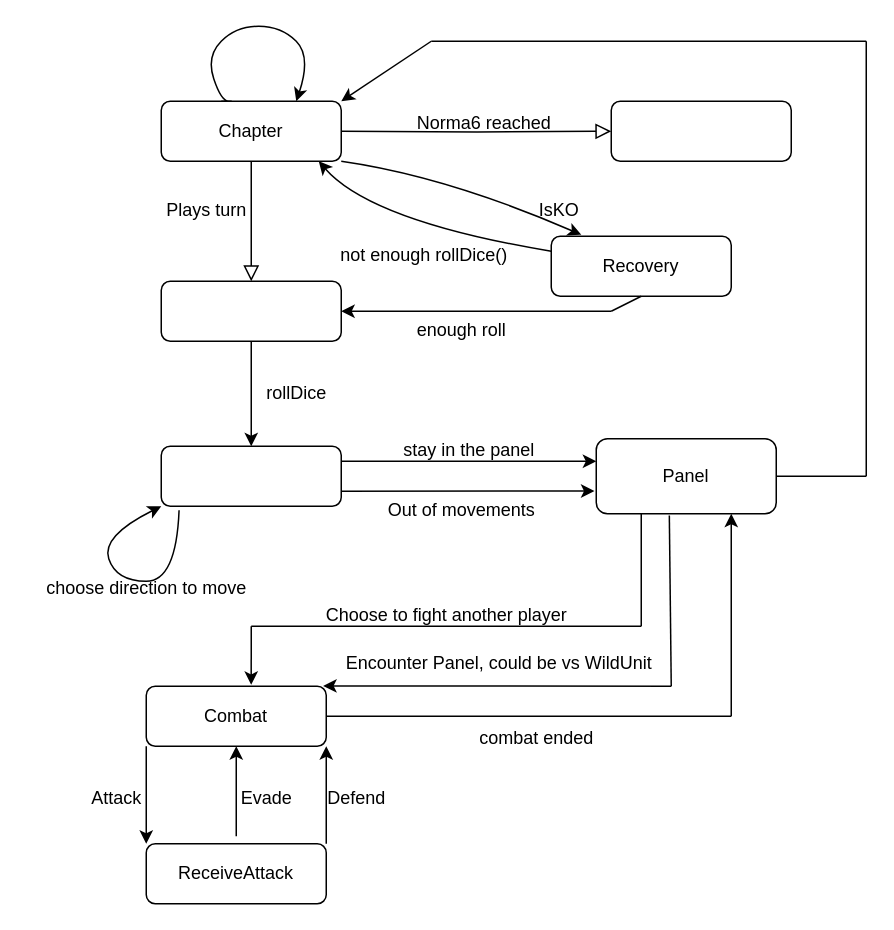
The diagram is 894 pixels wide and 930 high, and some of its shapes have lost their labels. Each missing label, with the centre of its shape:
GameOver: point 700,130
Move: point 250,475
Player Turn: point 250,310
